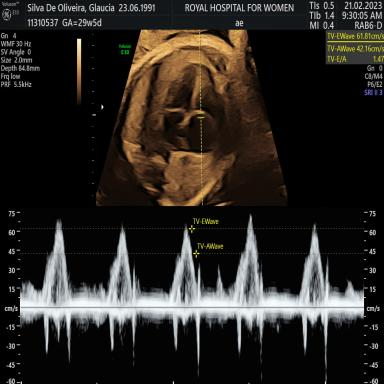Ultrasound-Waves: (25, 210, 361, 384)
